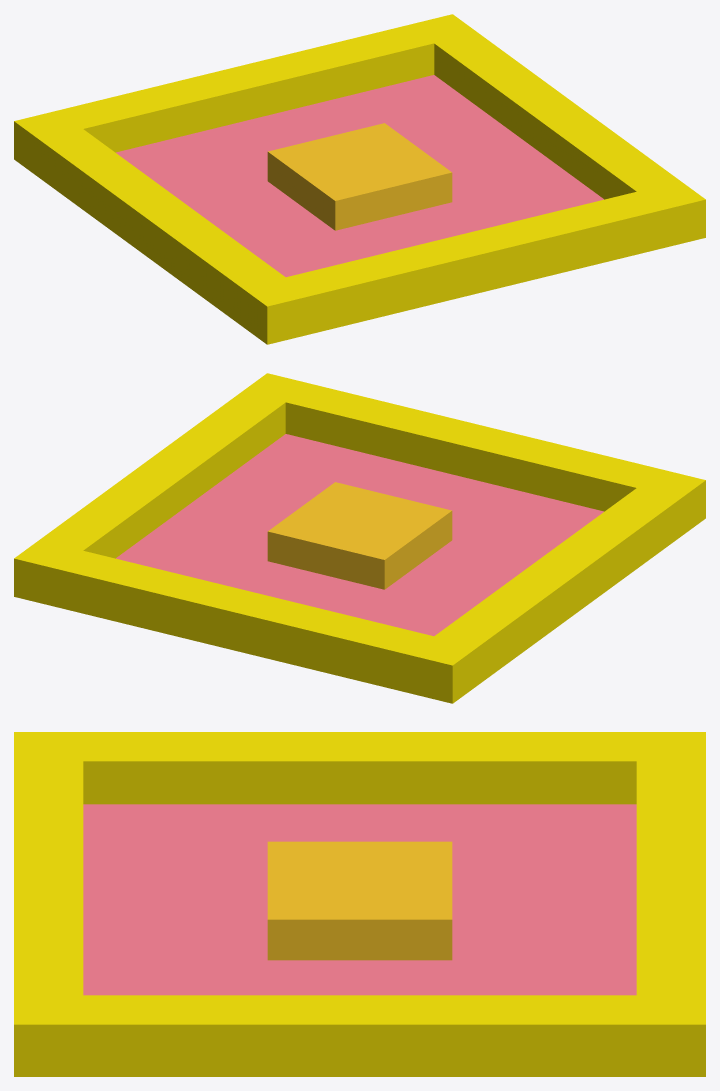
3 renders of one model, top to bottom at view 1: azimuth 30°, elevation 25°; view 2: azimuth 150°, elevation 25°; view 3: azimuth 270°, elevation 25°, orthographic. The views are drawn at different scales.
Visible parts, largest first — view 1: Cube; view 2: Cube; view 3: Cube.
Boxes of the visible parts, bbox=[...] form: Cube: bbox=[14, 14, 705, 344]; Cube: bbox=[14, 373, 705, 703]; Cube: bbox=[14, 732, 705, 1076].
Bounding box in the file's own units: 600 × 50 × 600.
